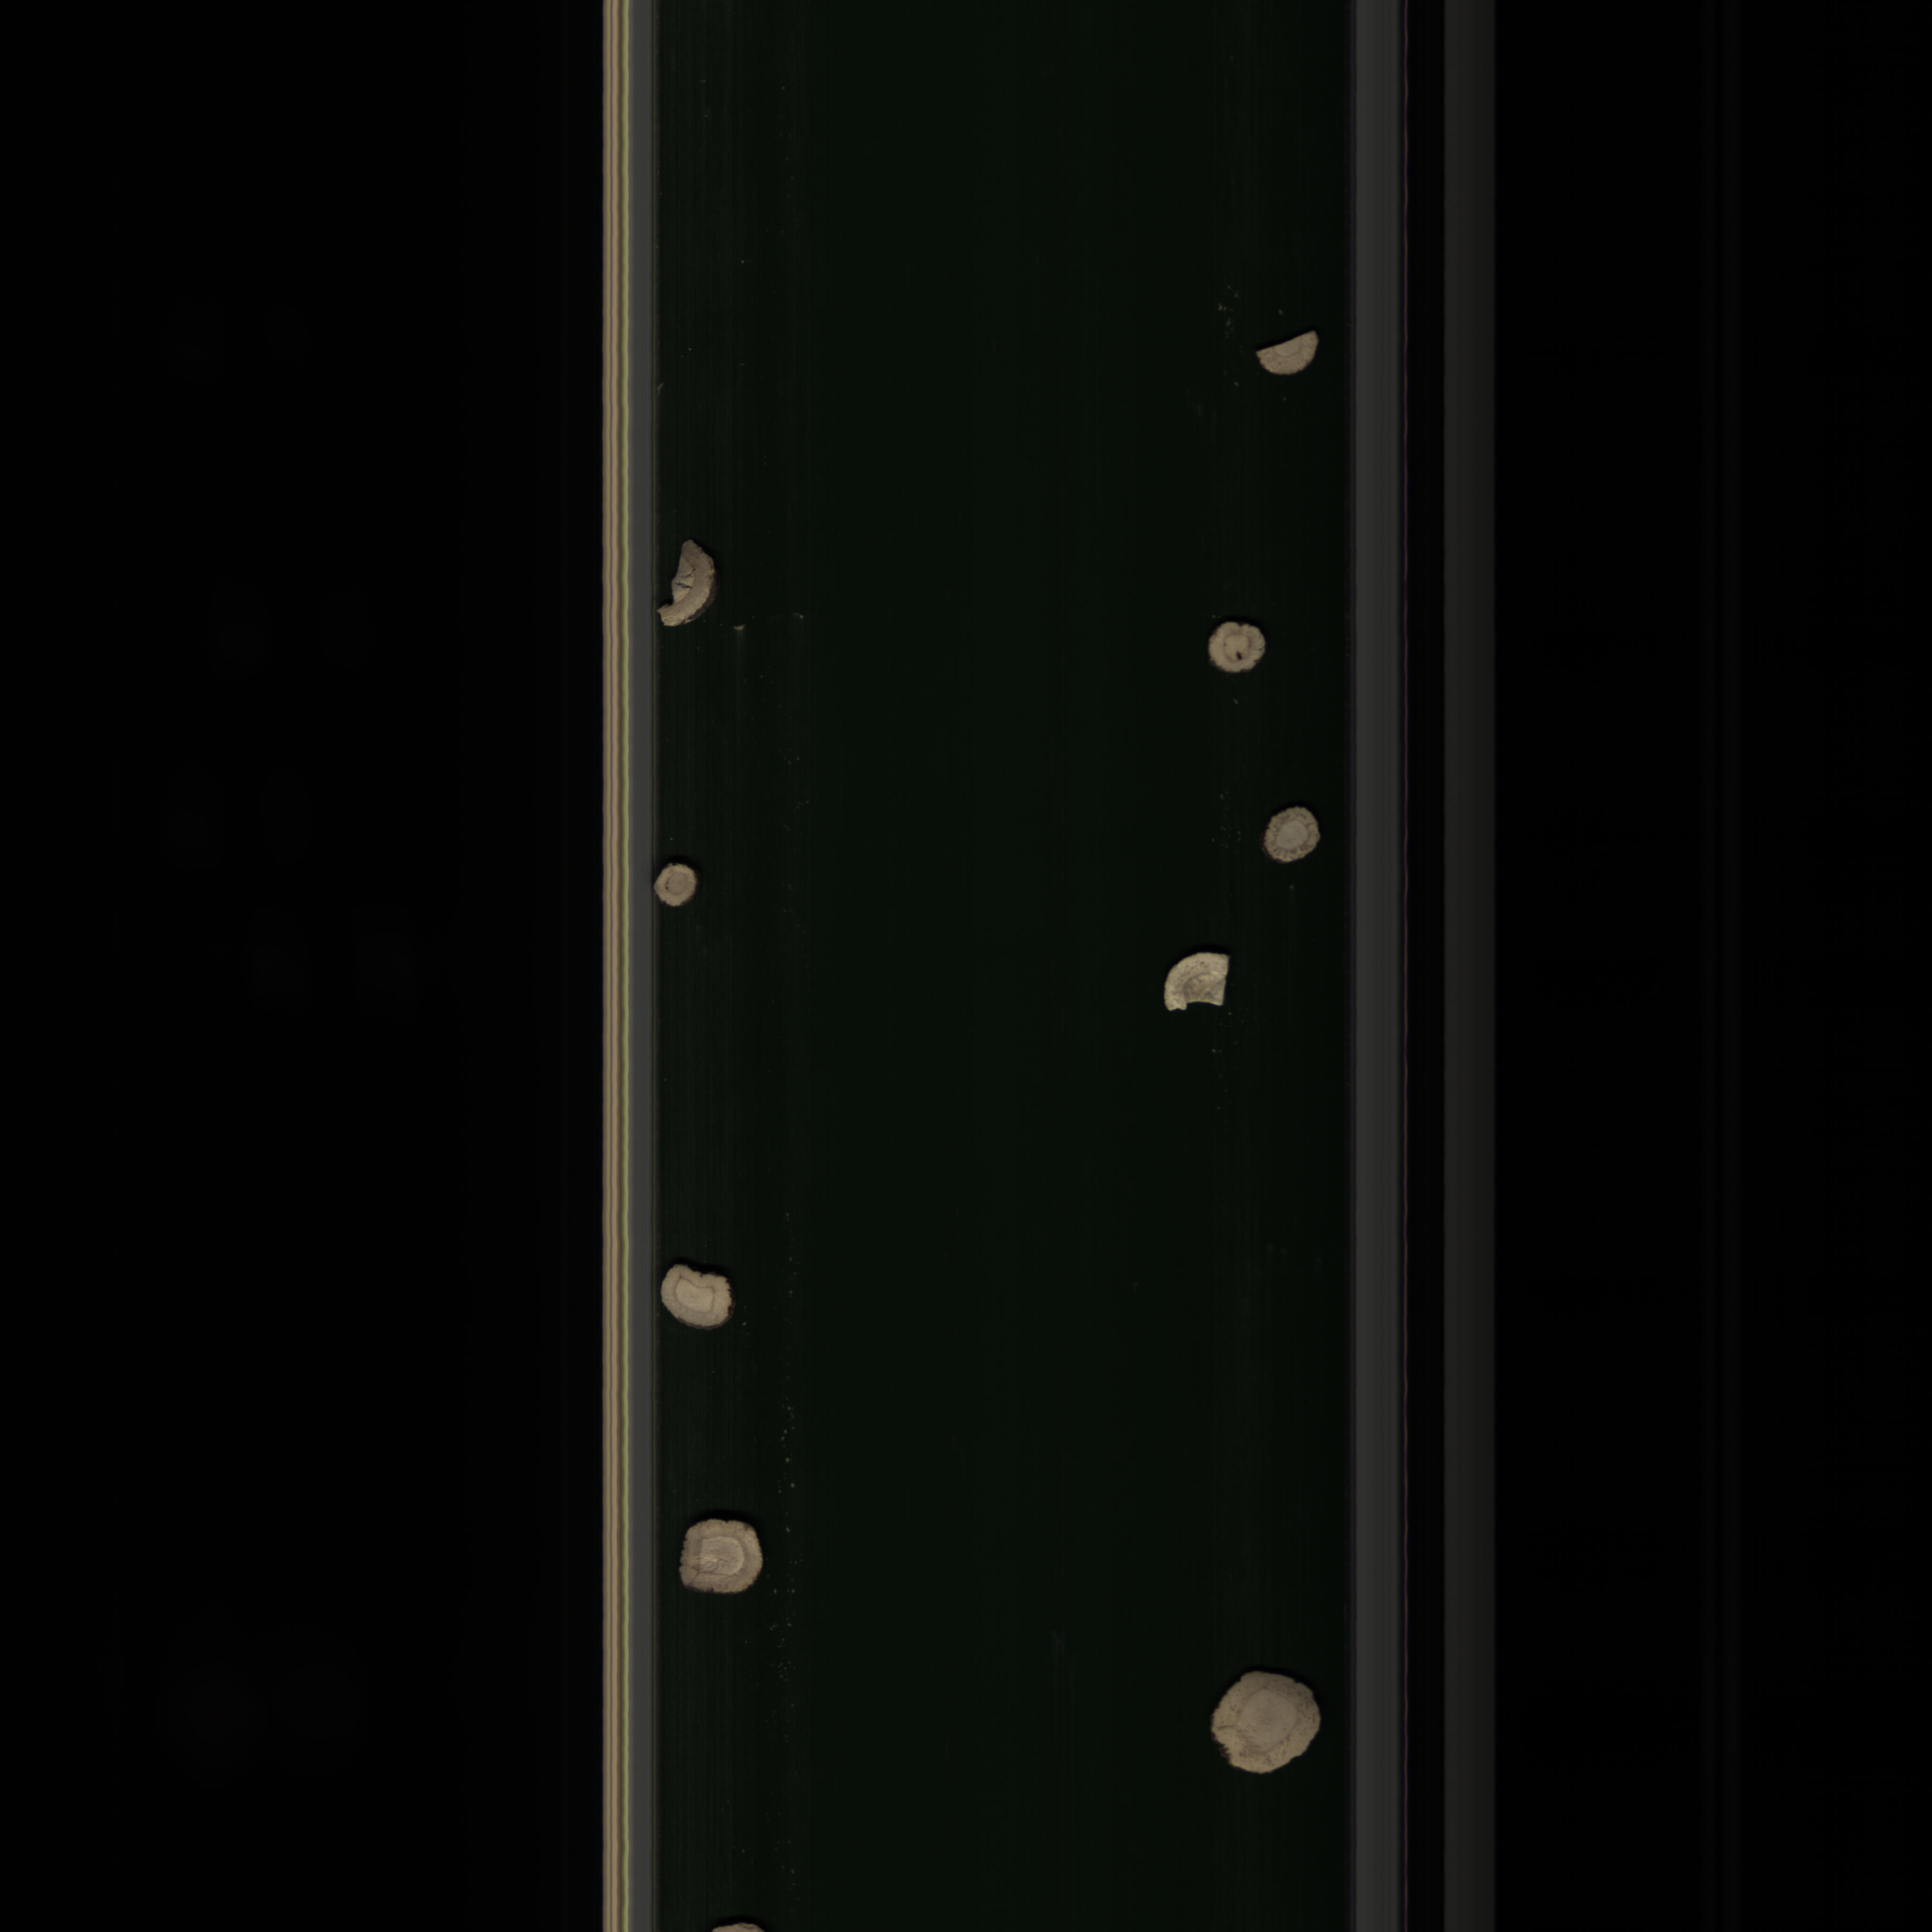debris: (655, 527, 731, 637), (1146, 950, 1244, 1024), (1246, 327, 1330, 386)
hole: (1203, 616, 1272, 683)
